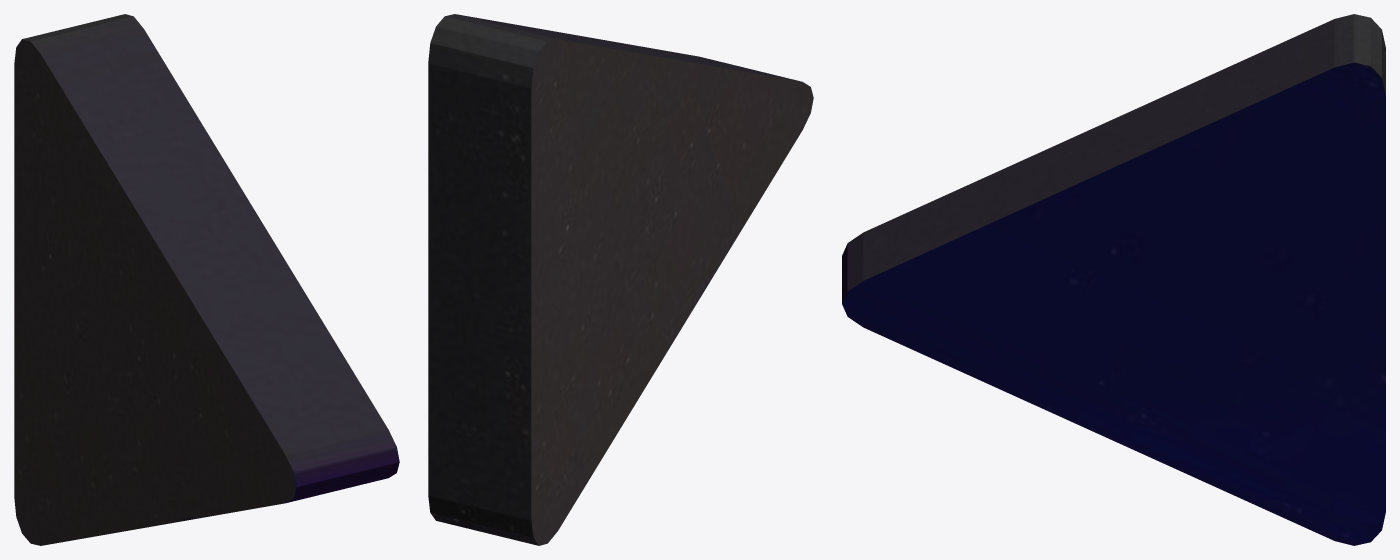
File: touch_play.glb
3 views of the same model, side by side, from view 1: azimuth 30°, elevation 25°; view 2: azimuth 150°, elevation 25°; view 3: azimuth 270°, elevation 25° (orthographic). The views are drawn at different scales.
Parts seen in each view (by area): view 1: touch_play; view 2: touch_play; view 3: touch_play.
Part boxes in pixels (x1,y1,x2,y2): touch_play: [14, 14, 399, 545]; touch_play: [428, 14, 813, 545]; touch_play: [842, 14, 1385, 545].
Size of the model in its own units: 0.14 by 0.6507 by 0.6633.
1 material, 1 textured.
